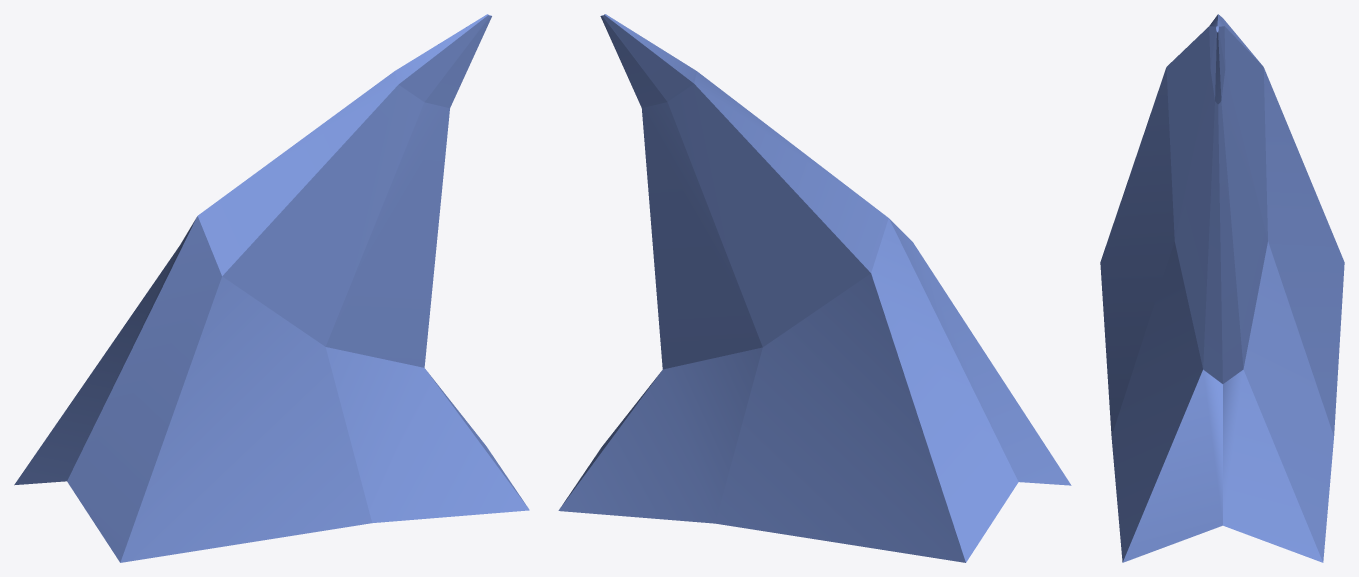
Rendered from TopFin.obj.
The picture shows the model from 3 angles, left to right: view 1: azimuth 30°, elevation 25°; view 2: azimuth 150°, elevation 25°; view 3: azimuth 270°, elevation 25°; orthographic projection. The views are drawn at different scales.
Parts seen in each view (by area): view 1: polySurface10 pCylinder5; view 2: polySurface10 pCylinder5; view 3: polySurface10 pCylinder5.
Part boxes in pixels (<box>): polySurface10 pCylinder5: <box>14,14,529,562</box>; polySurface10 pCylinder5: <box>558,14,1071,562</box>; polySurface10 pCylinder5: <box>1100,14,1344,562</box>.
Bounding box in the file's own units: 2.77 × 2.92 × 1.21.
